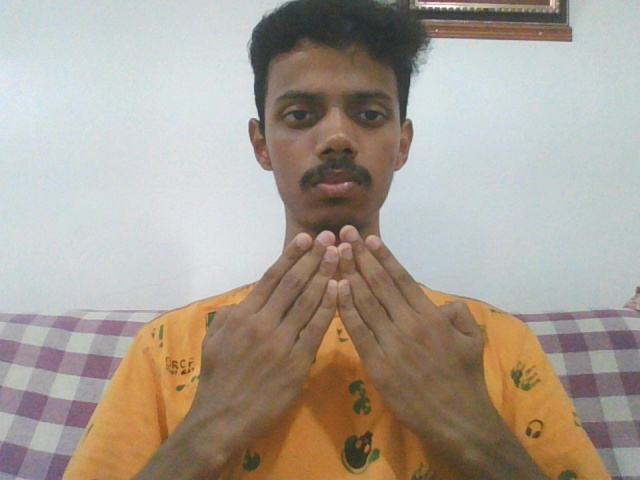ThankYou: (200, 224, 486, 409)
